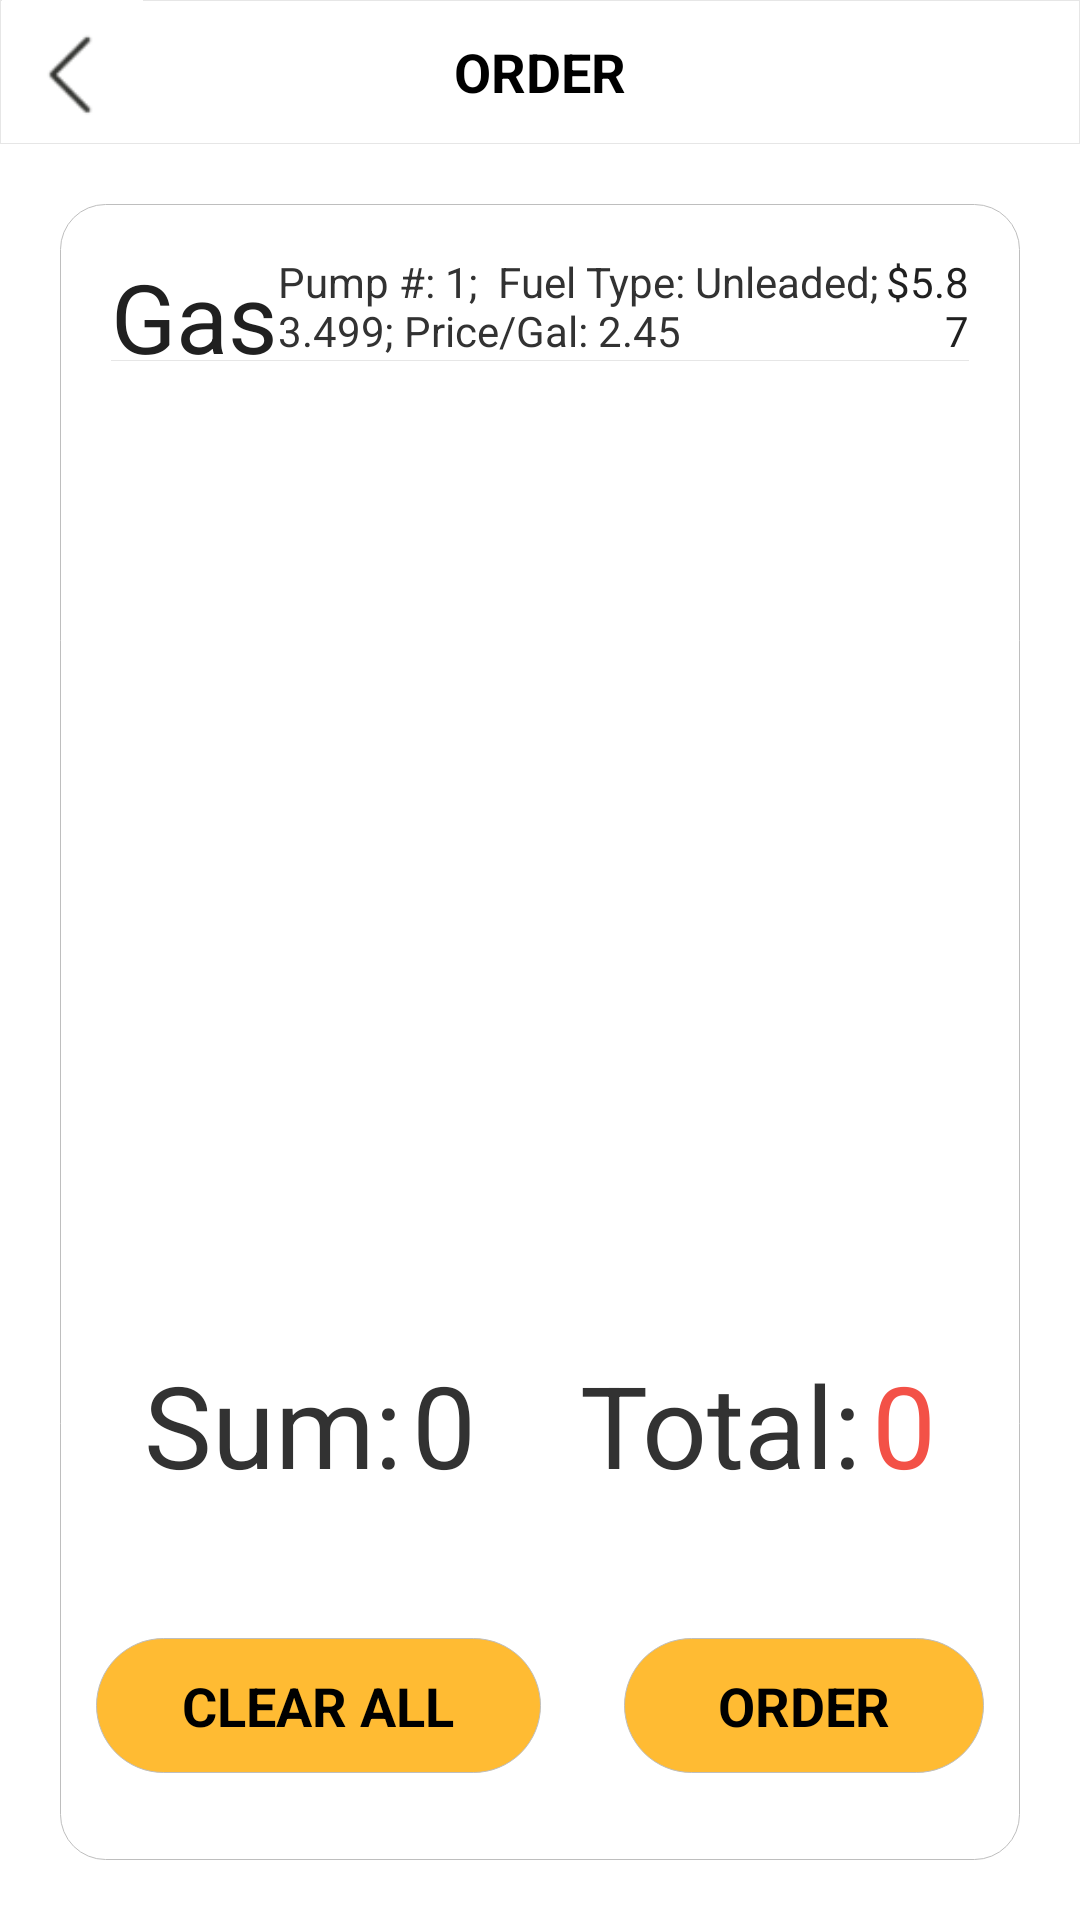

Locate icon controls on the screen. Image size 1080 × 1920, boxes as bbox=(x1, y1, x2, y2).
back: bbox=(49, 36, 91, 113)
